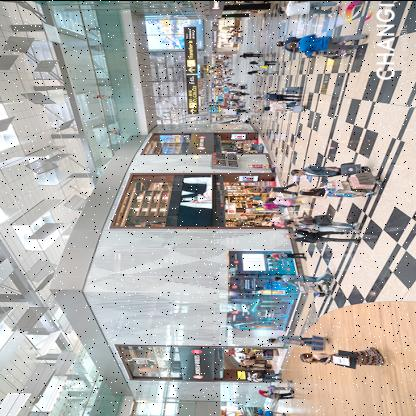airport-trolley: (326, 170, 384, 194), (296, 279, 334, 297), (272, 376, 298, 390)
